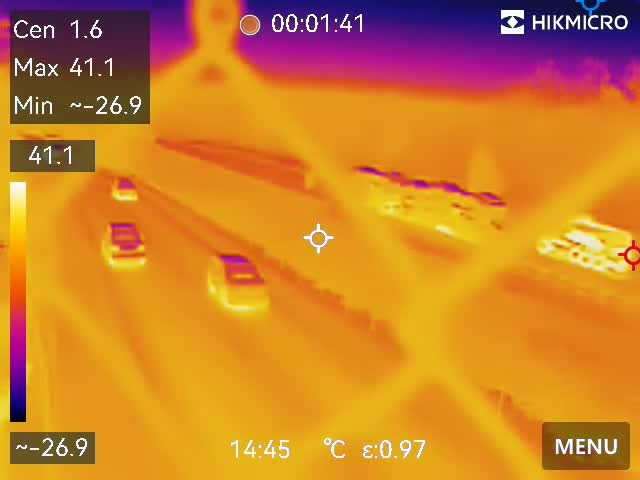heavyTruck: (317, 157, 508, 231), (537, 204, 637, 272)
lightTruck: (101, 213, 146, 265)
vehicle: (205, 248, 274, 312), (107, 173, 141, 202)
